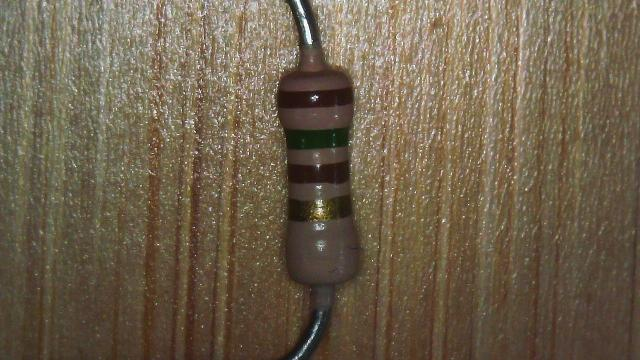brown: (290, 162, 351, 182), (278, 88, 354, 104)
gold: (289, 195, 356, 219)
green: (284, 126, 352, 149)
resistor: (251, 51, 386, 296)
